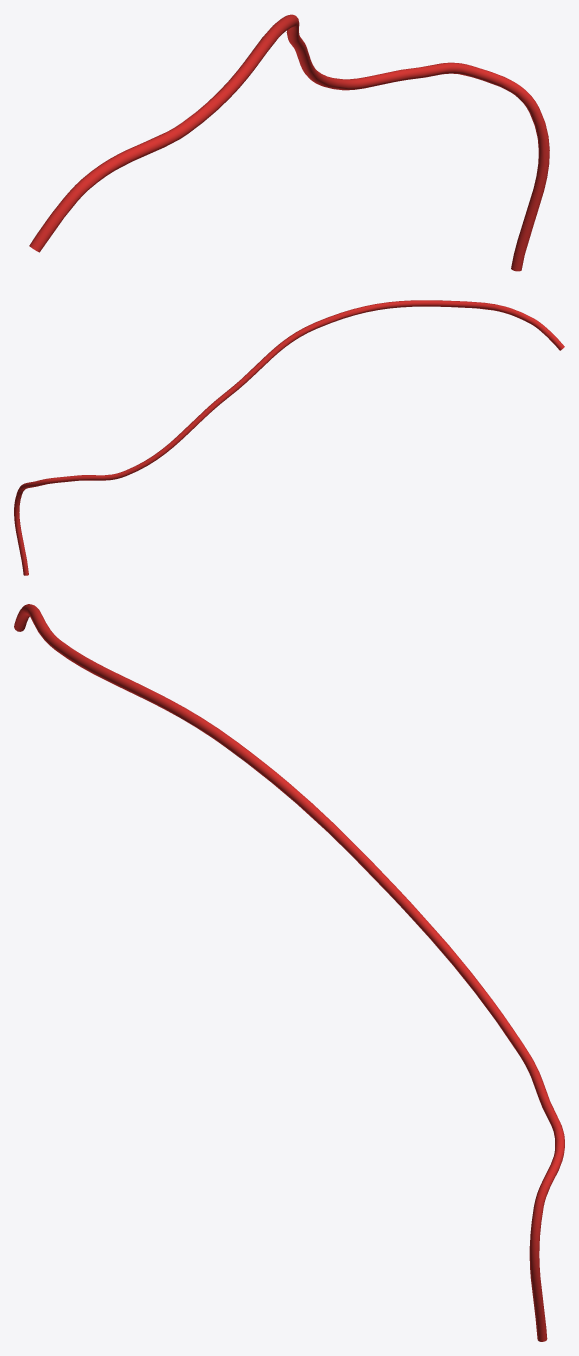
File: circulatorio-suprascapular-vein-l.glb
The picture shows the model from 3 angles, top to bottom: view 1: azimuth 30°, elevation 25°; view 2: azimuth 150°, elevation 25°; view 3: azimuth 270°, elevation 25°; orthographic projection. The views are drawn at different scales.
Visible parts, largest first — view 1: Suprascapular vein.l; view 2: Suprascapular vein.l; view 3: Suprascapular vein.l.
Part boxes in pixels (bbox=[...]): Suprascapular vein.l: bbox=[29, 14, 549, 271]; Suprascapular vein.l: bbox=[14, 300, 564, 575]; Suprascapular vein.l: bbox=[14, 604, 564, 1341].
Size of the model in its own units: 0.1015 by 0.0598 by 0.0676.
